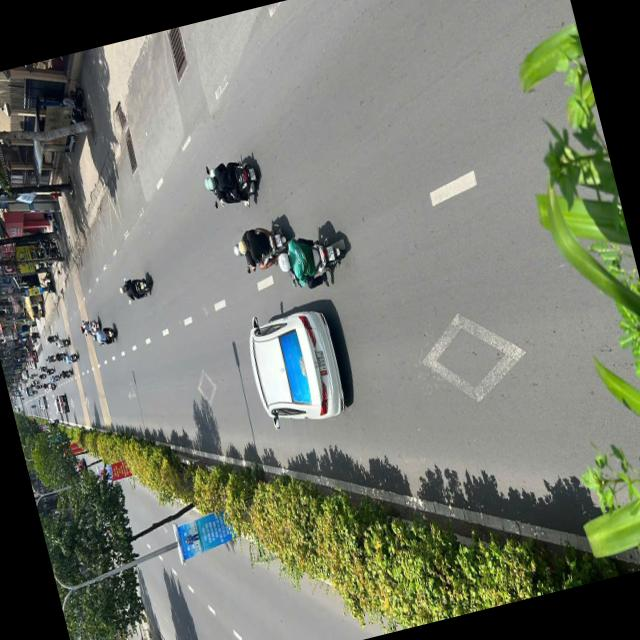Bus: (23, 382, 34, 397)
car: (240, 299, 353, 431), (52, 392, 70, 414), (27, 348, 38, 362), (36, 395, 46, 409), (26, 356, 36, 369), (21, 366, 28, 379)
motobyte: (276, 222, 352, 292), (232, 214, 295, 278), (202, 156, 264, 212), (116, 271, 156, 304), (92, 326, 118, 348), (76, 314, 102, 336), (63, 351, 80, 364), (54, 336, 72, 348), (53, 350, 67, 361), (59, 367, 73, 378), (46, 332, 58, 342), (44, 353, 54, 362), (49, 373, 60, 381), (46, 381, 57, 389), (44, 366, 54, 374), (37, 364, 47, 372), (37, 372, 46, 379), (41, 381, 48, 388), (29, 402, 36, 408), (31, 379, 38, 385), (30, 389, 38, 394), (35, 384, 42, 388), (28, 373, 33, 378), (32, 372, 38, 376)
